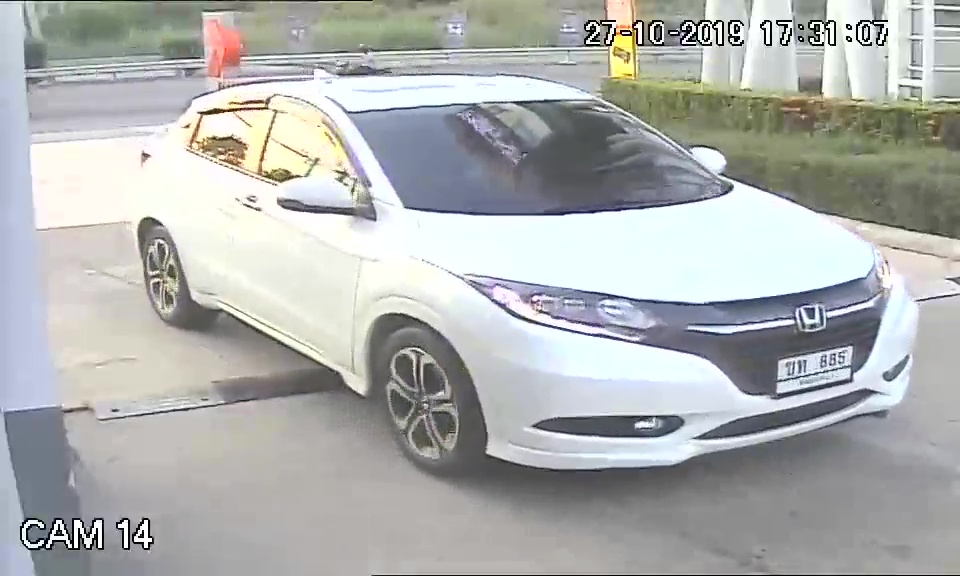sedan: (123, 72, 921, 480)
